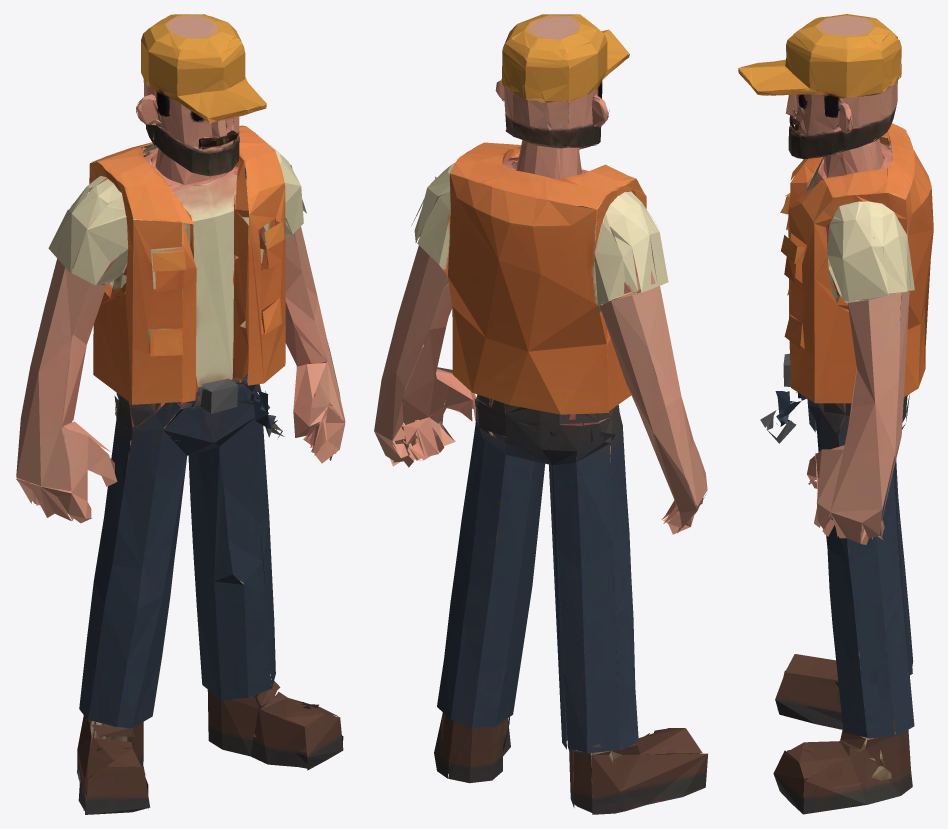
File: habitant.glb
3 views of the same model, side by side, from view 1: azimuth 30°, elevation 25°; view 2: azimuth 150°, elevation 25°; view 3: azimuth 270°, elevation 25° (orthographic). The views are drawn at different scales.
Visible parts, largest first — view 1: world; view 2: world; view 3: world.
Part boxes in pixels (x1,y1,x2,y2): world: (16, 14, 345, 814); world: (374, 14, 707, 814); world: (738, 14, 933, 814).
Bounding box in the file's own units: 0.4545 × 1.01 × 0.2439.
1 material, 1 textured.
